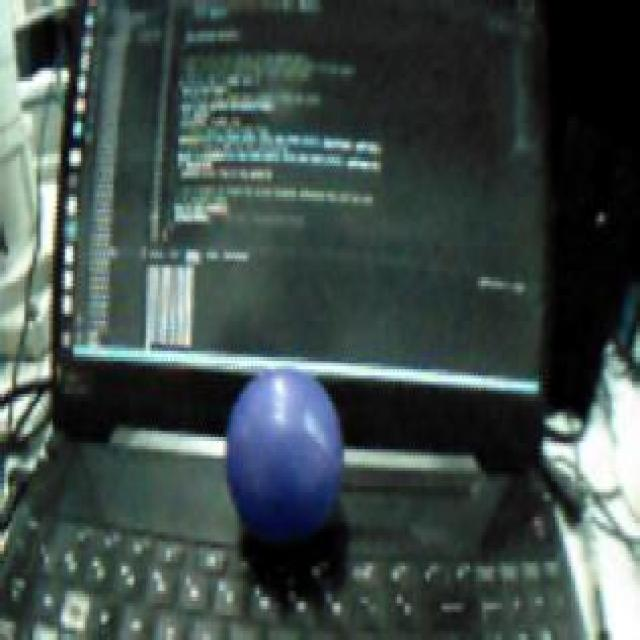BallPurple: (225, 370, 343, 542)
